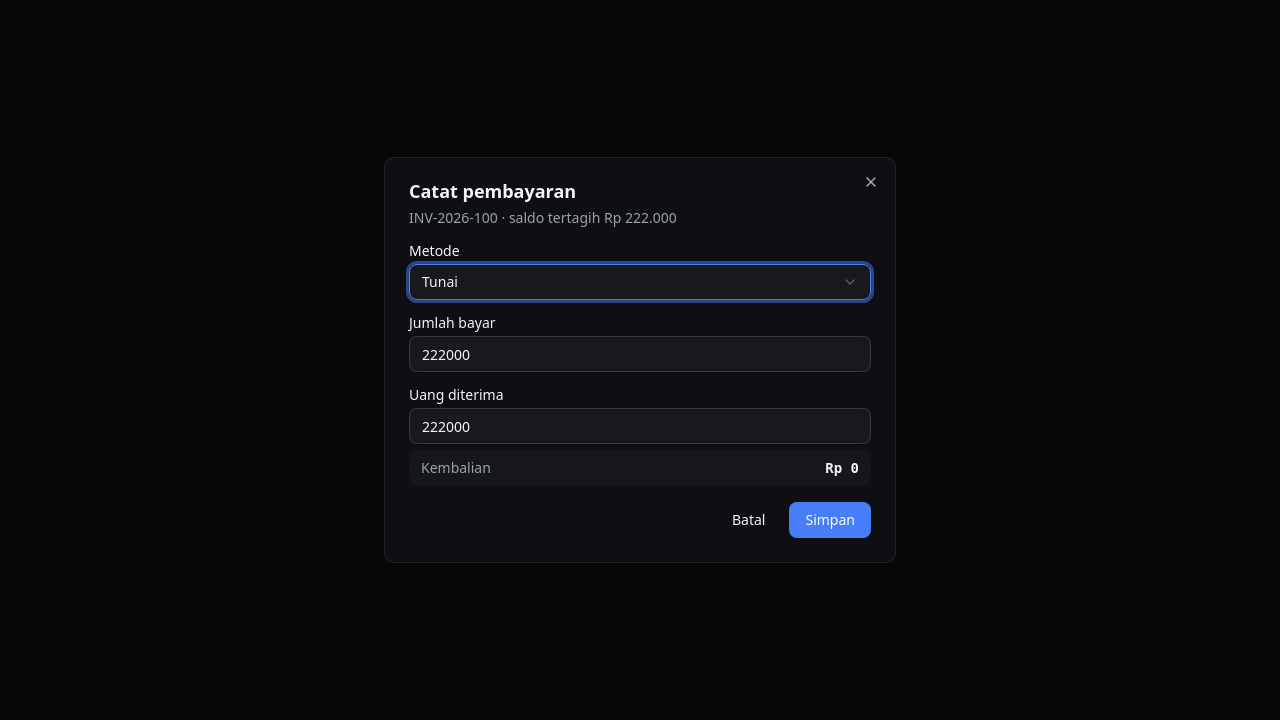
it: LoketPayDialog › shows the balance and live-computes cash change (kembalian)
Expected: the text "INV-2026-100 · saldo tertagih Rp 222.000" is shown, [409,208,677,227]
Replace the text in the number field labelled "Uang diterima" with "250000" at [640, 426], box [409,408,871,444]
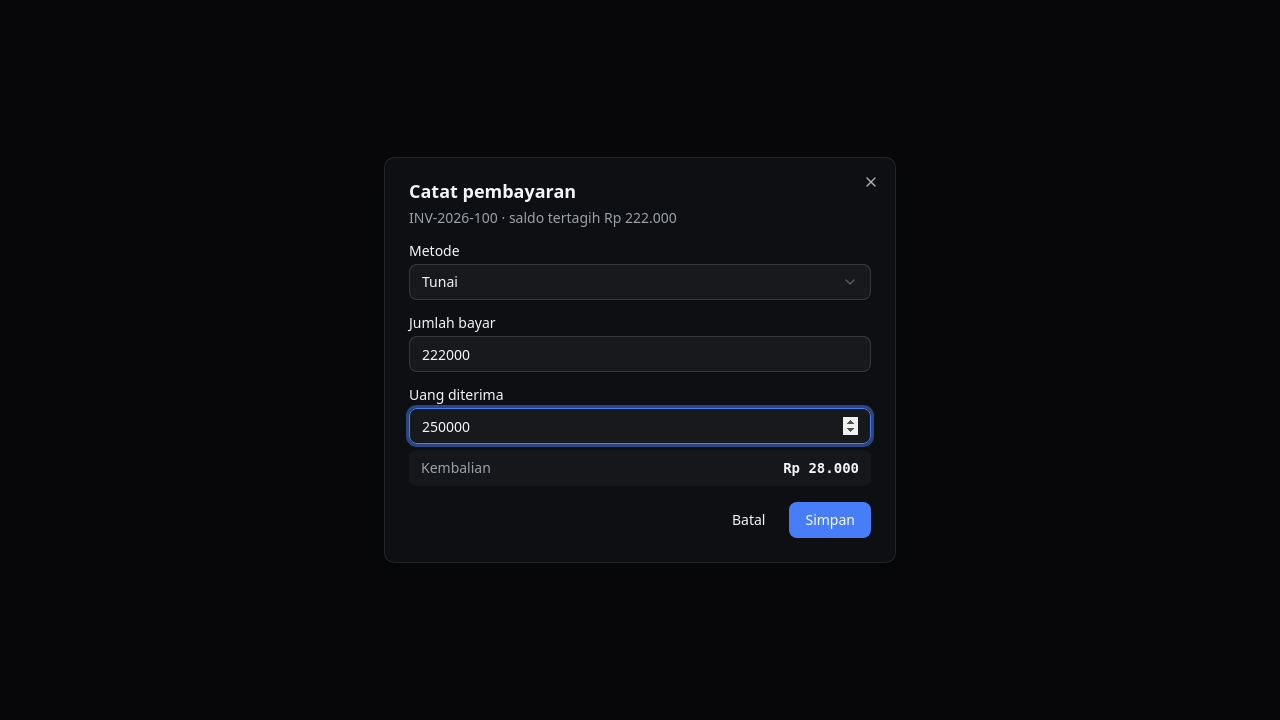
Expected: the text "Rp 28.000" is shown, [783,458,859,478]
